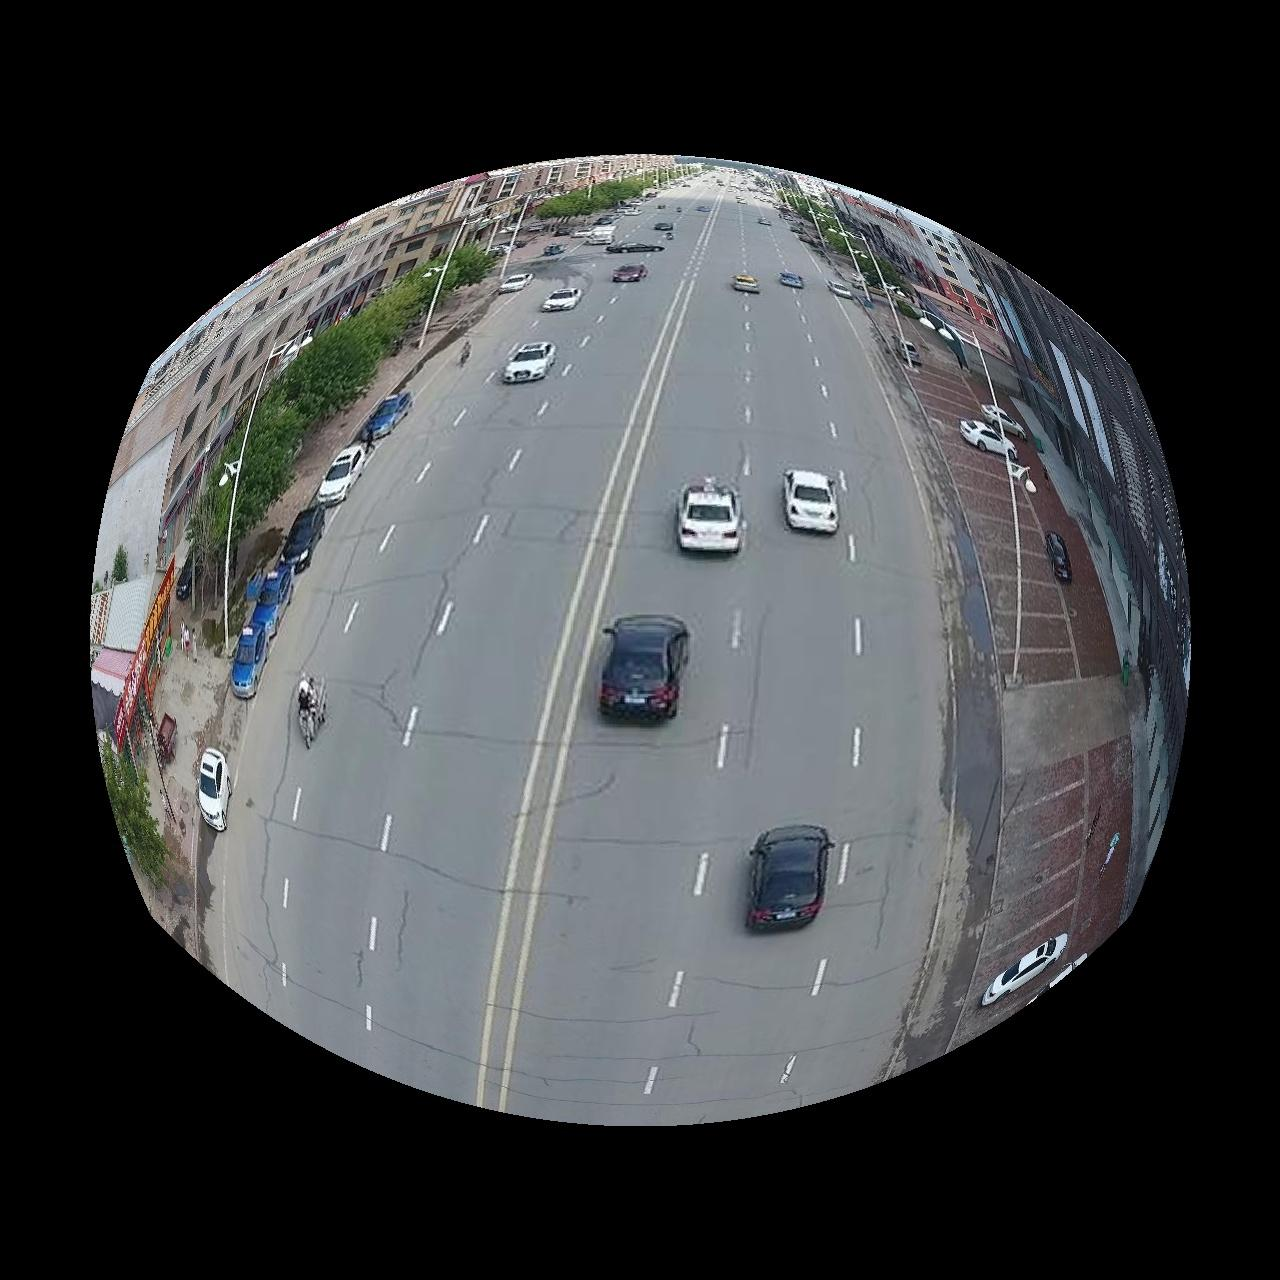building: (834, 189, 1193, 898), (93, 153, 675, 580), (90, 555, 175, 751)
cars: (600, 615, 690, 720), (747, 826, 834, 932), (985, 936, 1070, 1008), (678, 477, 746, 554), (785, 470, 840, 534), (196, 749, 230, 832), (502, 341, 556, 383), (541, 286, 583, 310)
trees: (284, 254, 443, 426), (230, 362, 310, 564), (185, 402, 247, 578), (100, 737, 168, 890), (537, 178, 645, 218), (443, 242, 494, 290)
